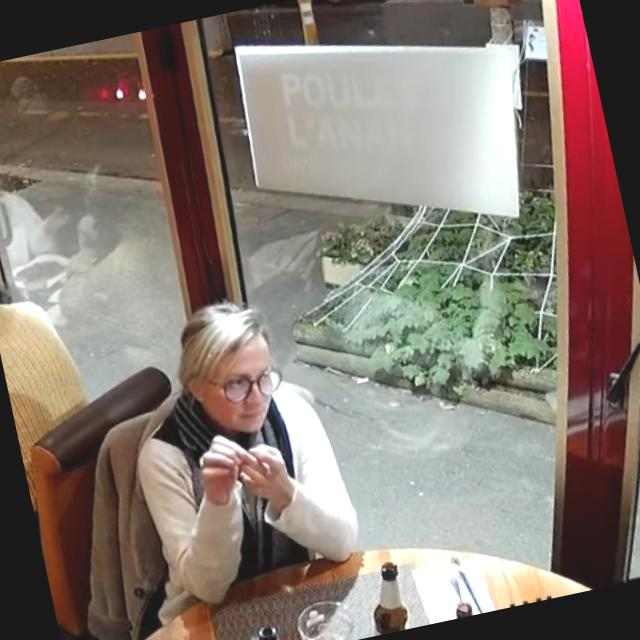person: (100, 281, 374, 623), (0, 228, 135, 635), (0, 226, 104, 496)
